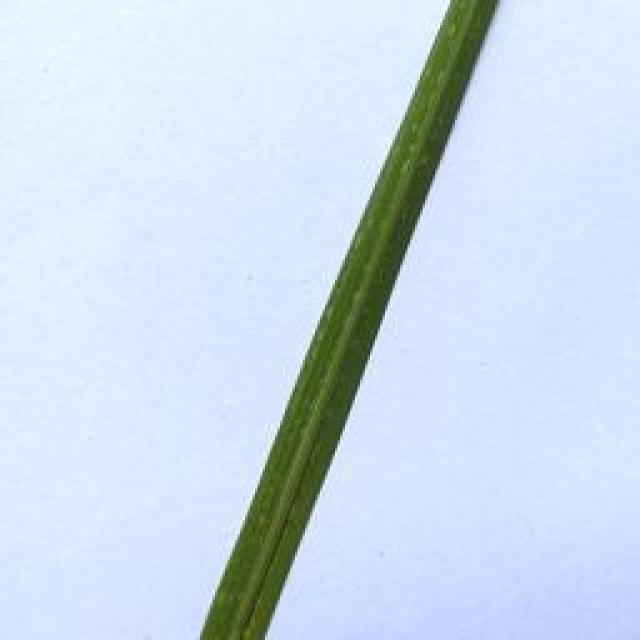Healthy-Plant: (198, 0, 492, 640)
